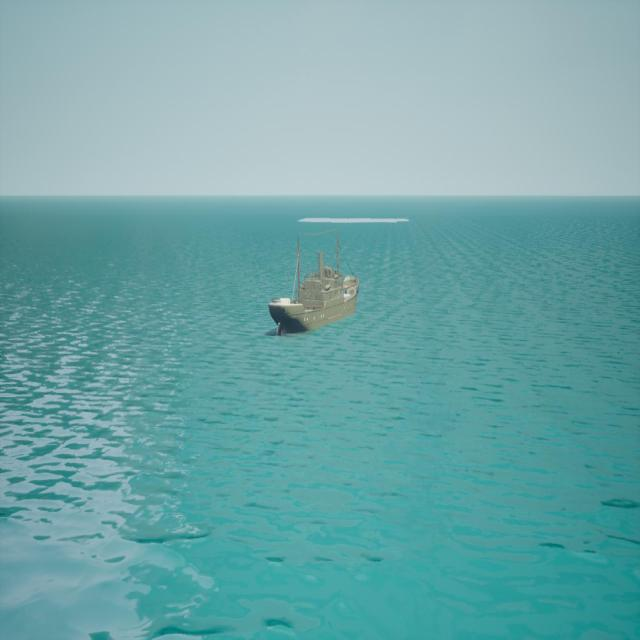fishing ship: (267, 224, 360, 339)
